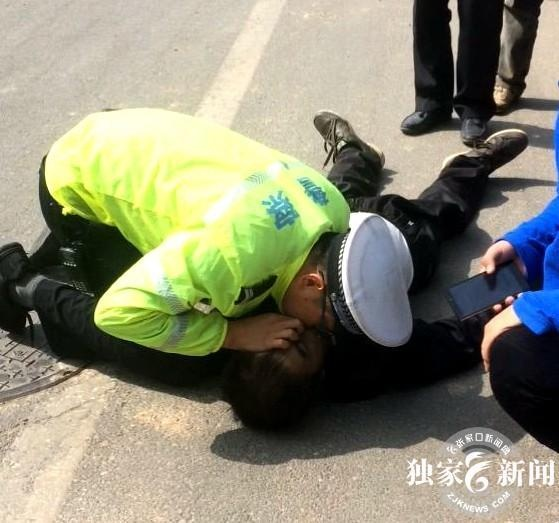falling: (250, 75, 537, 446)
